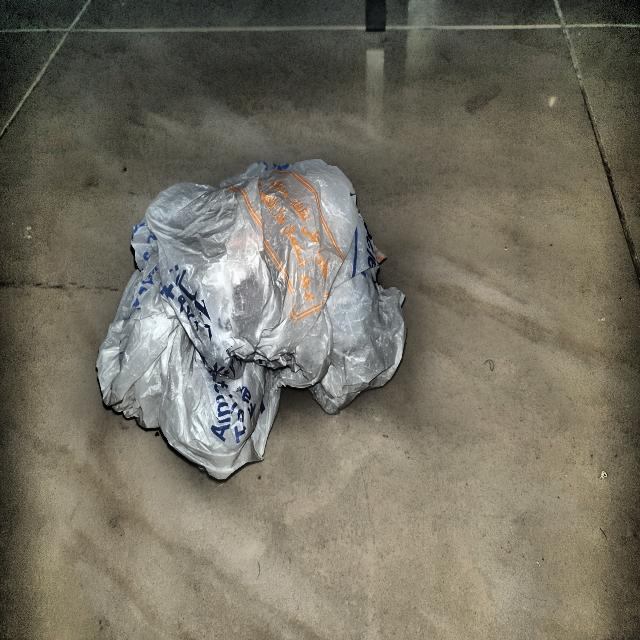plastic bag: (80, 148, 415, 492)
